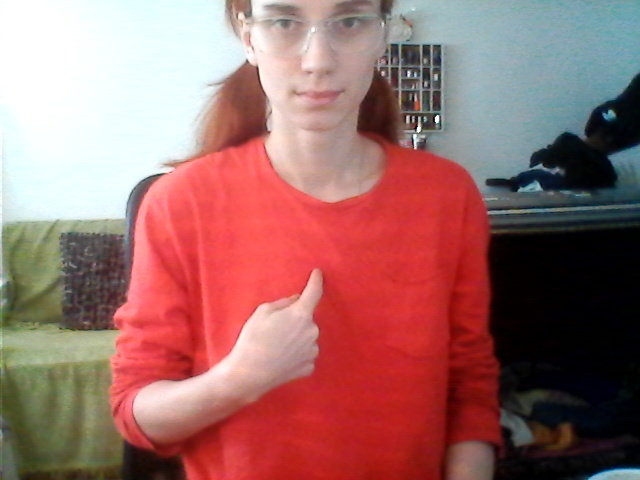ja: (235, 262, 356, 409)
